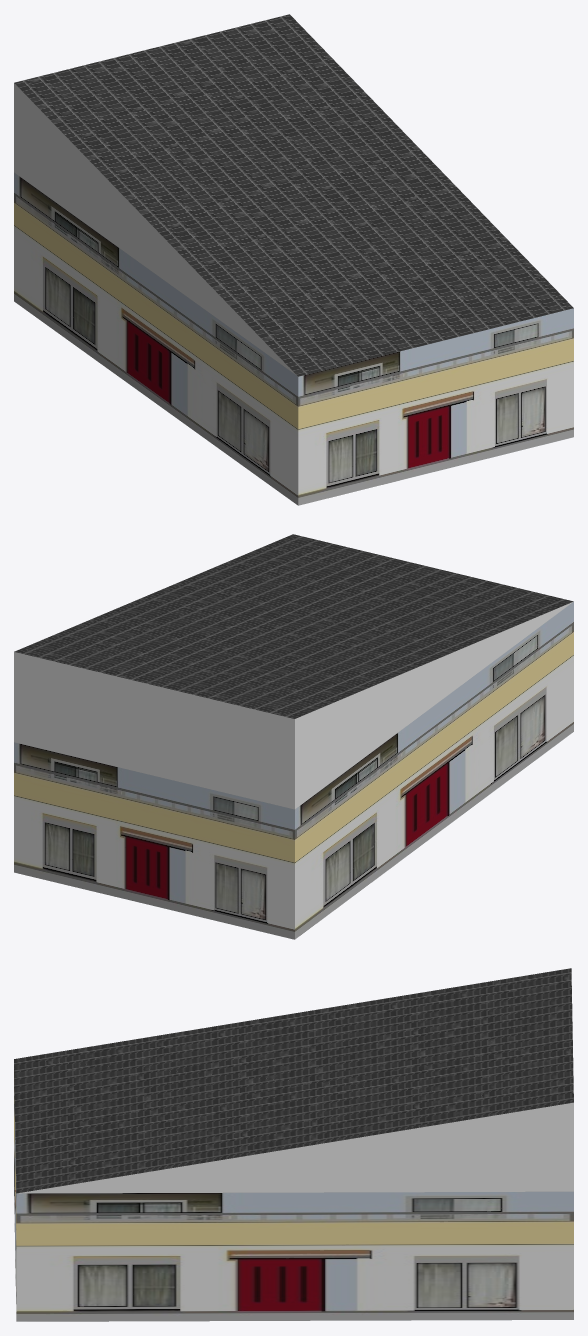
3 renders of one model, top to bottom at view 1: azimuth 30°, elevation 25°; view 2: azimuth 150°, elevation 25°; view 3: azimuth 270°, elevation 25°, orthographic.
Visible parts, largest first — view 1: CityEngineMaterial_16_m, CityEngineMaterial_15_m, CityEngineMaterial_3_m; view 2: CityEngineMaterial_15_m, CityEngineMaterial_16_m, CityEngineMaterial_3_m; view 3: CityEngineMaterial_16_m, CityEngineMaterial_15_m, CityEngineMaterial_3_m.
Boxes of the visible parts, <box> form: CityEngineMaterial_16_m: <box>14,14,573,376</box>; CityEngineMaterial_15_m: <box>14,172,573,505</box>; CityEngineMaterial_3_m: <box>14,83,296,375</box>; CityEngineMaterial_15_m: <box>14,602,573,939</box>; CityEngineMaterial_16_m: <box>14,534,573,718</box>; CityEngineMaterial_3_m: <box>14,601,573,809</box>; CityEngineMaterial_16_m: <box>14,968,573,1193</box>; CityEngineMaterial_15_m: <box>14,1068,573,1321</box>; CityEngineMaterial_3_m: <box>17,1102,573,1193</box>.
Bounding box in the file's own units: 18.44 × 13.73 × 32.04.
